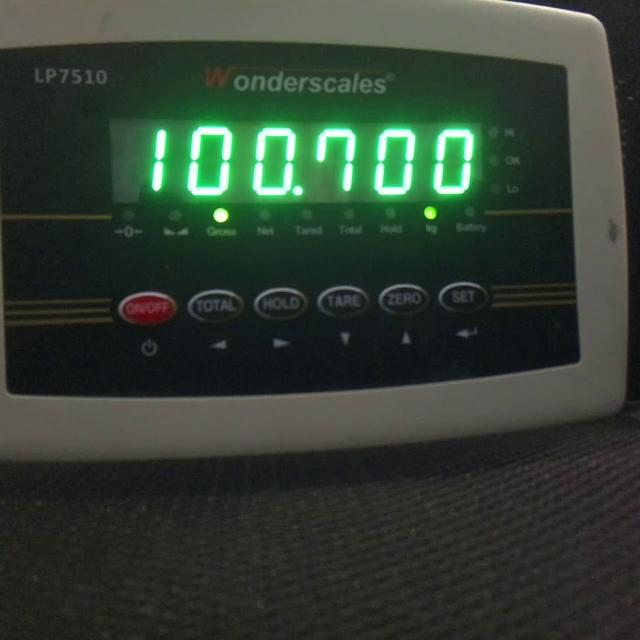.: (292, 185, 302, 196)
0: (188, 125, 233, 195), (252, 128, 295, 198), (374, 128, 416, 194), (433, 128, 474, 194)
1: (151, 129, 167, 192)
7: (316, 128, 356, 193)
